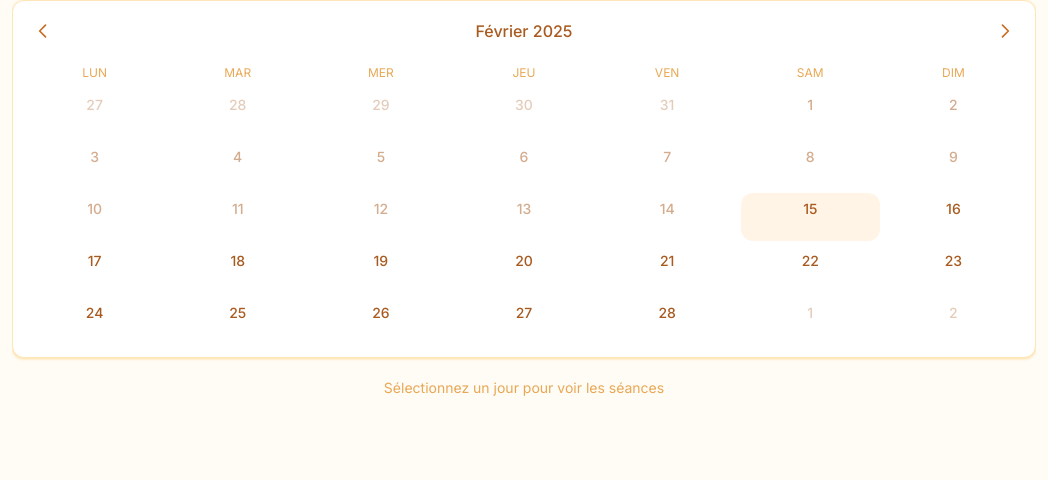
Test: MonthCalendar › Date Selection › shows "no sessions" message for selected date with no sessions
The width and height of the screenshot is (1048, 480).
Click the button "15".
click(810, 217)  # box [741,193,880,241]
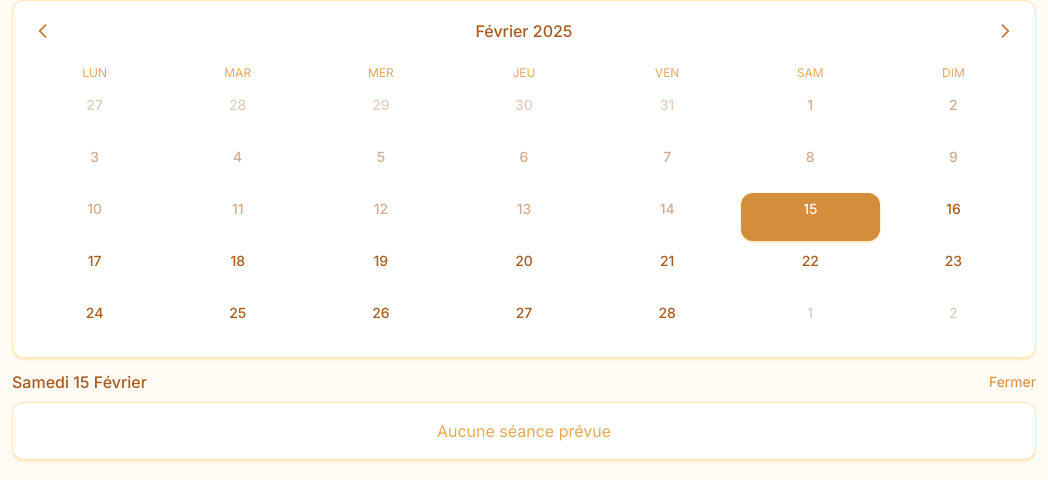
expect the text "Aucune séance prévue" is shown: met, box [12,402,1036,460]
